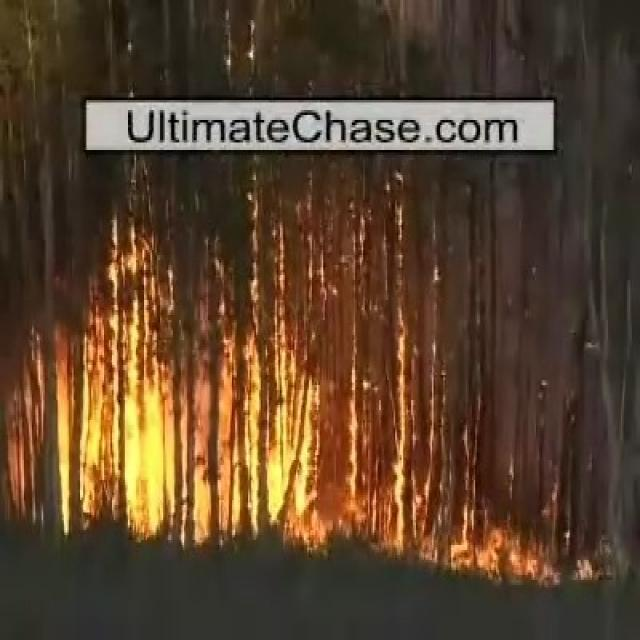fire: (125, 369, 175, 539), (268, 422, 316, 531)
